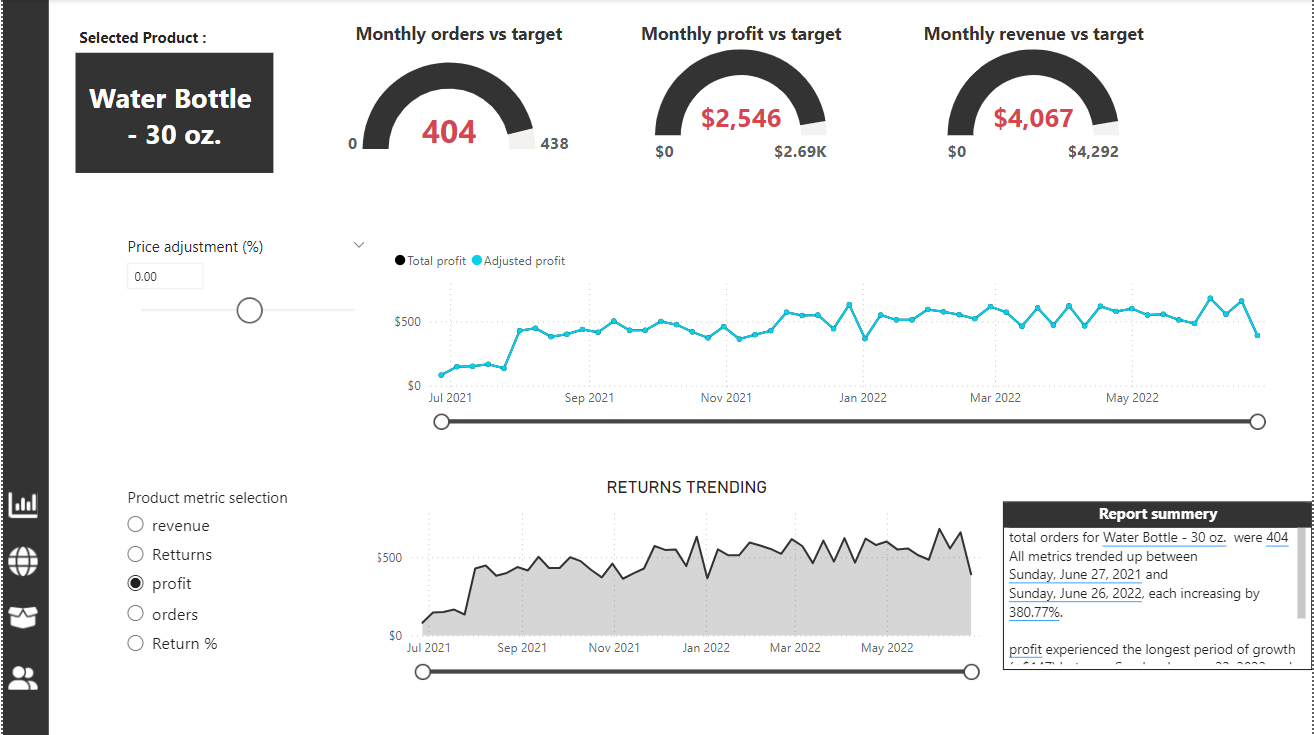

What the dashboard file says about the page in this screenshot:
{"tool":"powerbi","page":{"name":"Product detail","canvas":[1280,720],"ordinal":2},"visuals":[{"type":"shape","box":[0,0,45,720.2],"z":0},{"type":"actionButton","box":[0.9,472,36.7,46.5],"z":0,"group":"g1"},{"type":"gauge","title":"Monthly orders vs target","fields":{"Y":["Measure Table.Total orders"],"MaxValue":["Measure Table.Order target"]},"box":[327.7,22,236,148],"z":1000},{"type":"actionButton","box":[0.9,527,36.7,46.5],"z":1000,"group":"g1"},{"type":"gauge","title":"Monthly revenue vs target","fields":{"Y":["Measure Table.Total revenue"],"MaxValue":["Measure Table.Revenue target"]},"box":[891.4,22,233.6,148],"z":2000},{"type":"actionButton","box":[0.9,582.1,36.7,46.5],"z":2000,"group":"g1"},{"type":"gauge","title":"Monthly profit vs target","fields":{"Y":["Measure Table.Total profit"],"MaxValue":["Measure Table.Profit target"]},"box":[605.3,22,233.6,148],"z":3000},{"type":"actionButton","box":[0.9,637.1,36.7,53.8],"z":3000,"group":"g1"},{"type":"lineChart","title":"PROFIT TRENDING","fields":{"Category":["Calendar Lookup.date hirarchy.Start of Year","Calendar Lookup.date hirarchy.Start of Month","Calendar Lookup.date hirarchy.Start of Week","Calendar Lookup.date hirarchy.Date"],"Y":["Measure Table.Total profit","Measure Table.Adjusted profit"]},"box":[377.9,236,880.4,188.3],"z":4000},{"type":"areaChart","title":"RETURNS TRENDING","fields":{"Category":["Calendar Lookup.date hirarchy.Start of Year","Calendar Lookup.date hirarchy.Start of Month","Calendar Lookup.date hirarchy.Start of Quarter","Calendar Lookup.date hirarchy.Start of Week","Calendar Lookup.date hirarchy.Date"],"Y":["Measure Table.Total profit"]},"box":[359.5,467.1,618.8,201.8],"z":5000},{"type":"card","fields":{"Values":["Min(Product Lookup.ProductName)"]},"box":[70.9,52.6,193.2,117.4],"z":6000},{"type":"textbox","box":[69.7,22,170,30.6],"z":7000},{"type":"group","id":"g1","title":"nevigation buttons","box":[0.9,472,36.7,218.9],"z":8000},{"type":"slicer","fields":{"Values":["Price adjustment (%).Price adjustment (%)"]},"box":[108.8,226.2,258,156.5],"z":9001},{"type":"slicer","fields":{"Values":["Product metric selection.Product metric selection"]},"box":[108.8,472,258,192],"z":9002},{"type":"textbox","title":"Report summery","box":[978.3,491.6,302,165.1],"z":9003}]}

Visuals, with their boxes on the page's 1280x720 design canvas (x1, y1, x2, y2). These are canvas units, not pixel positions in the 1314x735 screenshot, which may show the page scaled, cropped or inside an application window:
shape: 0, 0, 45, 720
actionButton: 1, 472, 38, 518
"Monthly orders vs target" gauge: 328, 22, 564, 170
actionButton: 1, 527, 38, 574
"Monthly revenue vs target" gauge: 891, 22, 1125, 170
actionButton: 1, 582, 38, 629
"Monthly profit vs target" gauge: 605, 22, 839, 170
actionButton: 1, 637, 38, 691
"PROFIT TRENDING" lineChart: 378, 236, 1258, 424
"RETURNS TRENDING" areaChart: 360, 467, 978, 669
card - Min(Product Lookup.ProductName): 71, 53, 264, 170
textbox: 70, 22, 240, 53
"nevigation buttons" group: 1, 472, 38, 691
slicer - Price adjustment (%).Price adjustment (%): 109, 226, 367, 383
slicer - Product metric selection.Product metric selection: 109, 472, 367, 664
"Report summery" textbox: 978, 492, 1280, 657
